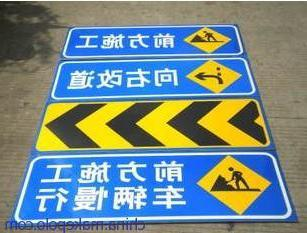sign: (15, 19, 290, 223)
